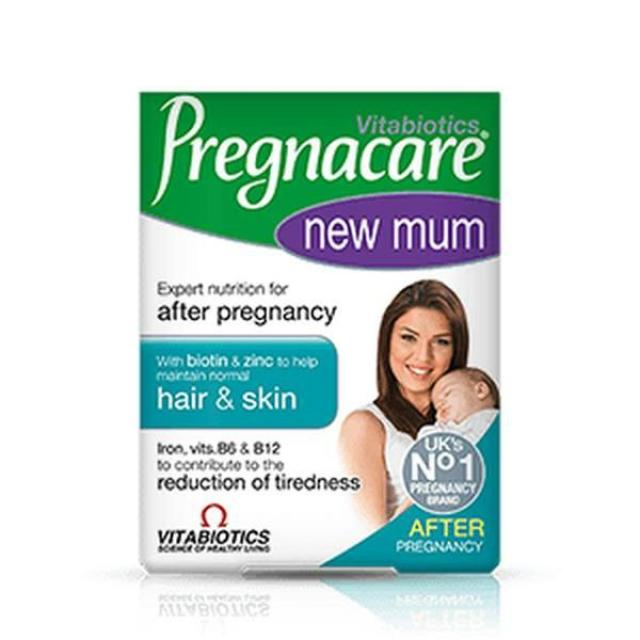pregnancy: (140, 96, 502, 576)
